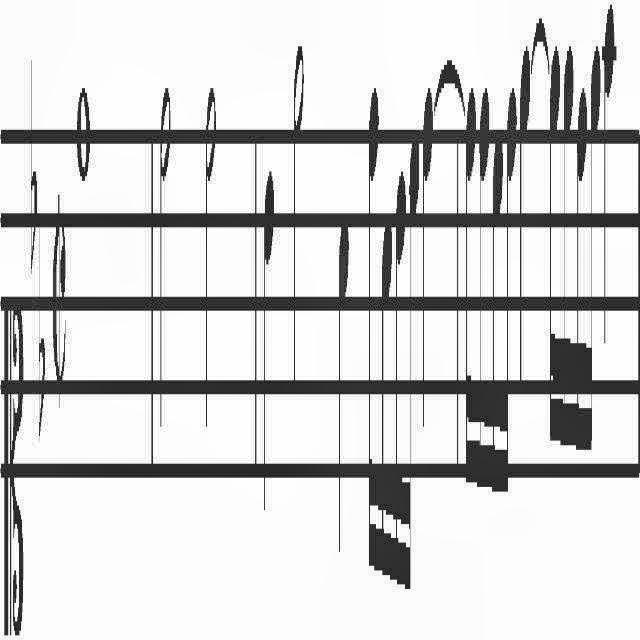Bemol: (38, 212, 46, 456), (30, 46, 38, 282)
Full-note: (78, 76, 90, 200)
Half-note: (292, 26, 304, 408), (204, 66, 216, 442), (160, 70, 172, 430)
Quarter-note: (262, 156, 274, 526), (338, 205, 350, 570), (604, 0, 616, 358), (518, 49, 530, 404), (422, 82, 433, 448)
Sixteenth-note: (406, 132, 419, 630), (560, 32, 574, 480), (366, 85, 378, 582), (394, 166, 406, 616), (504, 82, 516, 524), (588, 43, 600, 477), (491, 127, 504, 518), (478, 86, 490, 504), (548, 43, 560, 461), (464, 83, 476, 497), (574, 86, 586, 478), (380, 215, 392, 603)
